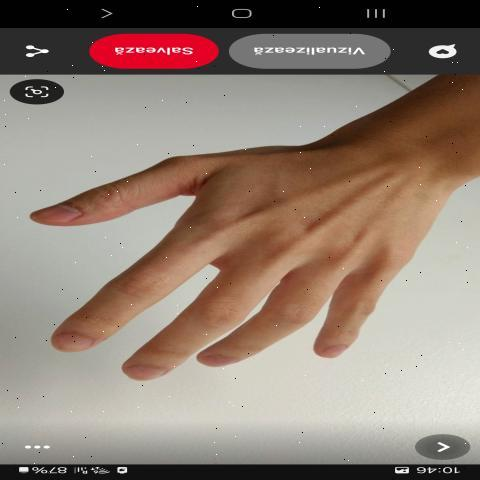Hands: (17, 118, 468, 427)
